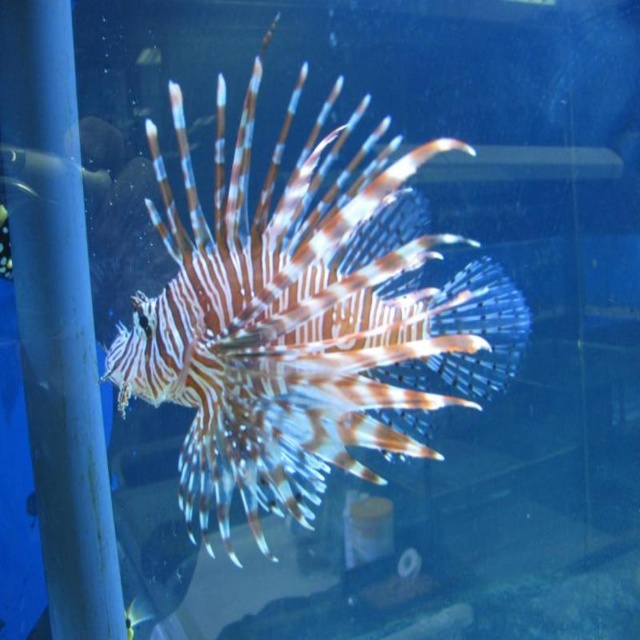Fish: (98, 11, 491, 570)
